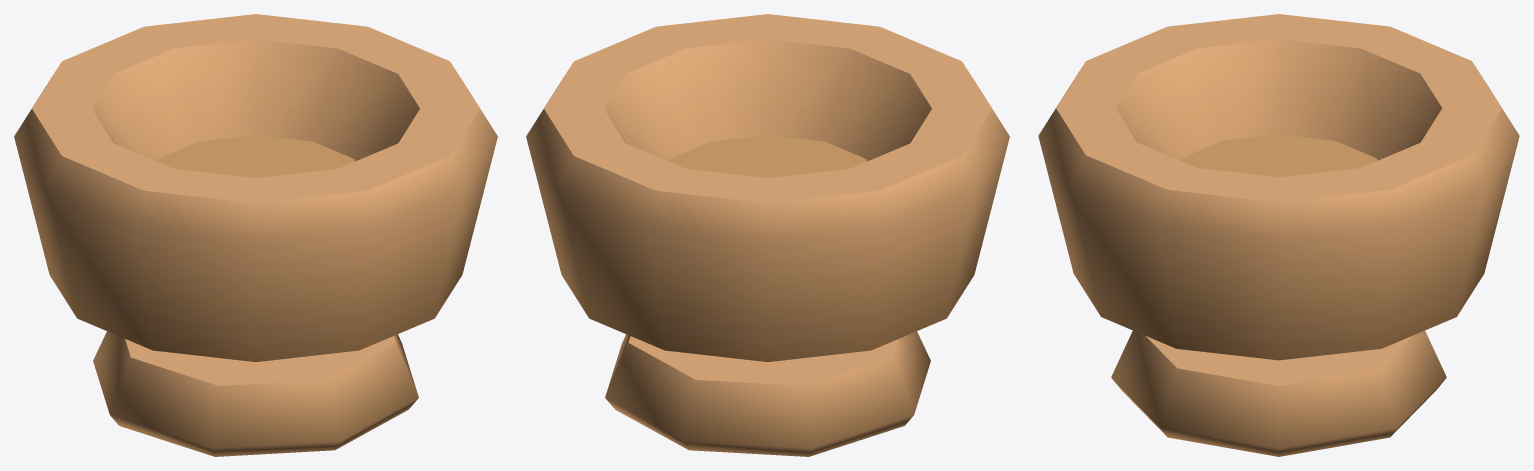
Rendered from ritual_bowl.glb.
3 views of the same model, side by side, from view 1: azimuth 30°, elevation 25°; view 2: azimuth 150°, elevation 25°; view 3: azimuth 270°, elevation 25° (orthographic).
Visible parts, largest first — view 1: detail-bowl; view 2: detail-bowl; view 3: detail-bowl.
Part boxes in pixels (x1,y1,x2,y2): detail-bowl: (14,14,497,456); detail-bowl: (526,14,1009,456); detail-bowl: (1038,14,1519,456).
Bounding box in the file's own units: 0.2009 × 0.13 × 0.2009.
Materials: 1 (1 with a texture image).
